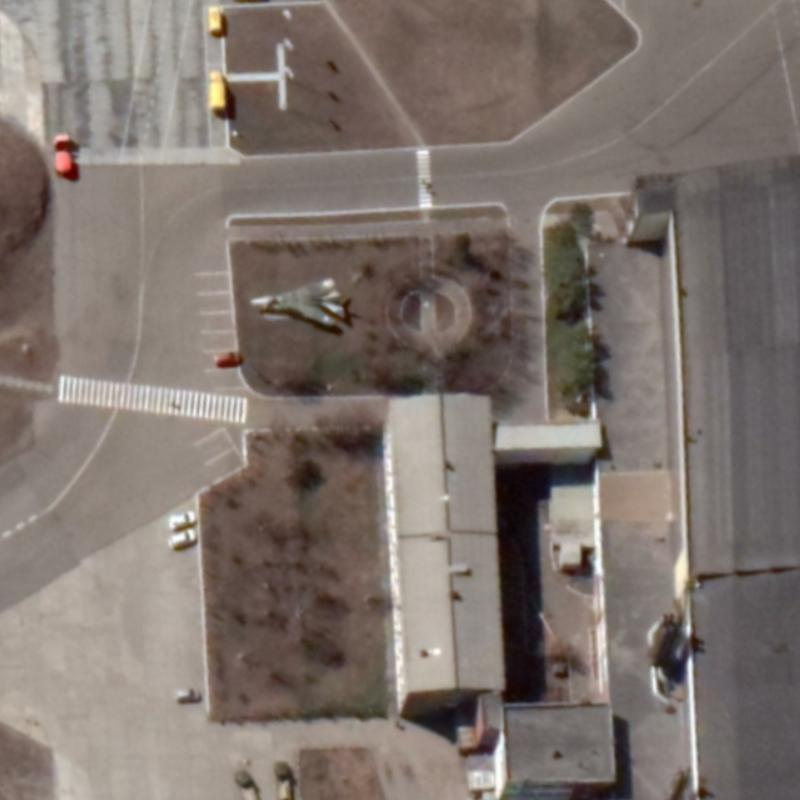A20: (246, 274, 349, 328)
